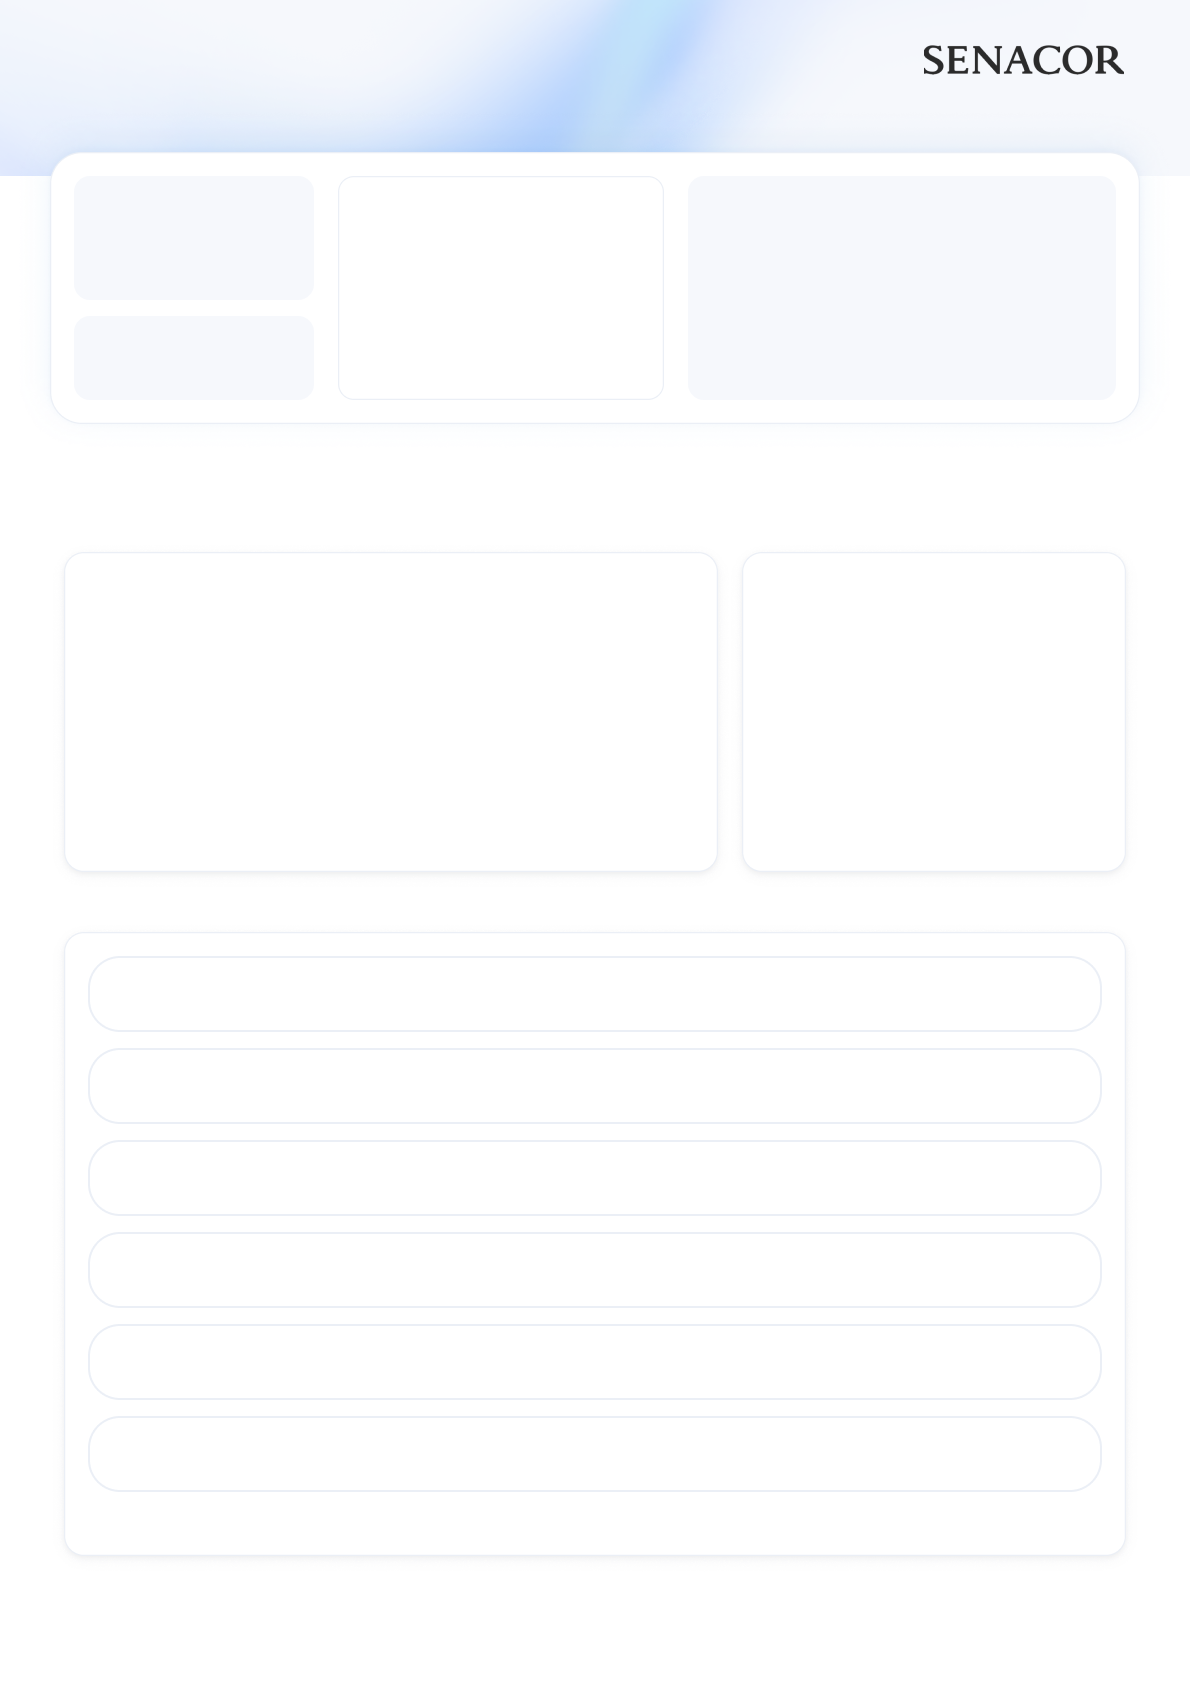

Layout of this report page (visuals, bound fields, positions):
{"tool":"powerbi","page":{"name":"Seite 1","canvas":[794,1123],"ordinal":0},"visuals":[{"type":"image","box":[0,0,794,126],"z":0},{"type":"shape","box":[20,90,760,228],"z":1000},{"type":"textbox","box":[50,50,500,40],"z":2000},{"type":"shape","box":[20,352,466,240],"z":3000},{"type":"shape","box":[488,352,290,240],"z":4000},{"type":"textbox","box":[50,325,200,34],"z":5000},{"type":"shape","box":[20,626,760,420],"z":6000},{"type":"textbox","box":[30,1050,740,60],"z":7000},{"type":"shape","box":[36,209,194,92],"z":8000},{"type":"shape","box":[466,107,298,194],"z":9000},{"type":"donutChart","fields":{"Category":["issue_counts.level"],"Y":["Sum(issue_counts.issue_count)"]},"box":[488,352,290,240],"z":10000},{"type":"shape","box":[238,105,218,198],"z":11000,"group":"g1"},{"type":"shape","box":[36,107,194,92],"z":11000},{"type":"barChart","fields":{"Category":["categories.Label"],"Y":["Sum(categories.level_aa_issue_counts)","Sum(categories.level_a_issue_counts)"]},"box":[24,626,752,420],"z":12000},{"type":"group","id":"g1","title":"Gruppe 1","box":[238,105,218,198],"z":13000},{"type":"advancedSlicerVisual","fields":{"Values":["report_summary.logo_url"]},"box":[36,107,194,92],"z":14000},{"type":"textbox","box":[337,130.9,103,29.1],"z":16000,"group":"g1"},{"type":"textbox","box":[518,325,200,34],"z":16000},{"type":"textbox","box":[50,599,232,34],"z":17000},{"type":"textbox","box":[282.4,228.9,156.7,47.2],"z":18000,"group":"g1"},{"type":"textbox","box":[20,352,466,240],"z":18000},{"type":"image","box":[590,0,180,70],"z":19000},{"type":"card","fields":{"Values":["Sum(report_summary.elements_with_no_violation_percentage)"]},"box":[294,156,150,70],"z":20000},{"type":"card","title":"Anzahl an gefundenen Fehlern","fields":{"Values":["Min(report_summary.total_issue_count)"]},"box":[593,420,80,80],"z":21000},{"type":"card","title":"Webseite","fields":{"Values":["Min(report_summary.url)"]},"box":[36,209,194,92],"z":22000},{"type":"image","box":[466,107,298,194],"z":23000}]}

Visuals, with their boxes in screenshot pixels (x1, y1, x2, y2), scaled from the page's 794x1123 canvas onto the 1190x1684 screenshot:
image: (left=0, top=0, right=1189, bottom=189)
shape: (left=30, top=135, right=1169, bottom=477)
textbox: (left=75, top=75, right=824, bottom=135)
shape: (left=30, top=528, right=728, bottom=888)
shape: (left=731, top=528, right=1166, bottom=888)
textbox: (left=75, top=487, right=375, bottom=538)
shape: (left=30, top=939, right=1169, bottom=1569)
textbox: (left=45, top=1575, right=1154, bottom=1665)
shape: (left=54, top=313, right=345, bottom=451)
shape: (left=698, top=160, right=1145, bottom=451)
donutChart - issue_counts.level x Sum(issue_counts.issue_count): (left=731, top=528, right=1166, bottom=888)
shape: (left=357, top=157, right=683, bottom=454)
shape: (left=54, top=160, right=345, bottom=298)
barChart - categories.Label x Sum(categories.level_aa_issue_counts): (left=36, top=939, right=1163, bottom=1569)
"Gruppe 1" group: (left=357, top=157, right=683, bottom=454)
advancedSlicerVisual - report_summary.logo_url: (left=54, top=160, right=345, bottom=298)
textbox: (left=505, top=196, right=659, bottom=240)
textbox: (left=776, top=487, right=1076, bottom=538)
textbox: (left=75, top=898, right=423, bottom=949)
textbox: (left=423, top=343, right=658, bottom=414)
textbox: (left=30, top=528, right=728, bottom=888)
image: (left=884, top=0, right=1154, bottom=105)
card - Sum(report_summary.elements_with_no_violation_percentage): (left=441, top=234, right=665, bottom=339)
"Anzahl an gefundenen Fehlern" card: (left=889, top=630, right=1009, bottom=750)
"Webseite" card: (left=54, top=313, right=345, bottom=451)
image: (left=698, top=160, right=1145, bottom=451)
